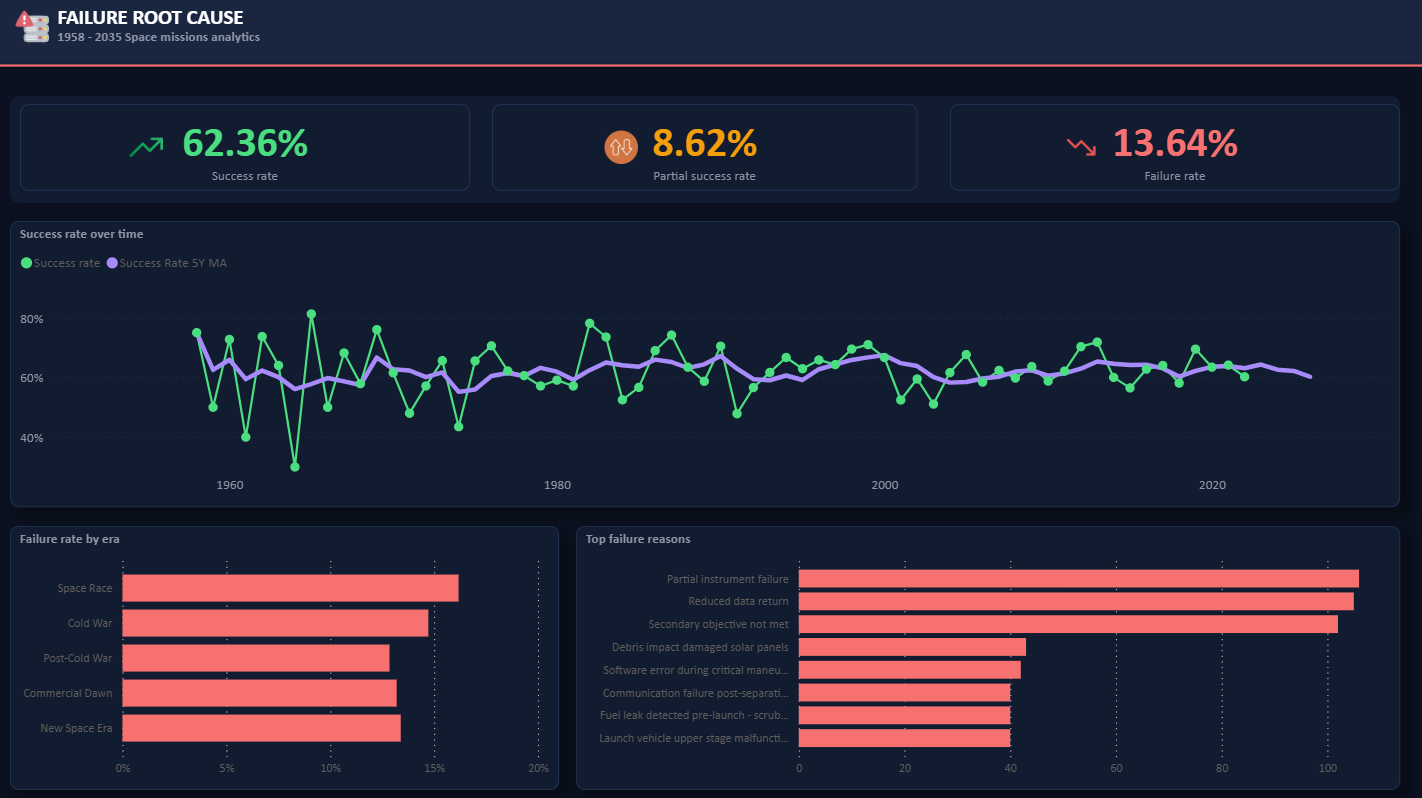

The page's visual inventory and layout, read from the dashboard file:
{"tool":"powerbi","page":{"name":"Failure root cause","canvas":[1280,720],"ordinal":2},"visuals":[{"type":"shape","box":[10,88,1248,96],"z":0},{"type":"card","fields":{"Values":["_measures.Success Rate2"]},"box":[19,95,404,78],"z":1000},{"type":"card","fields":{"Values":["_measures.failure rate"]},"box":[854,95,404,78],"z":2000},{"type":"card","fields":{"Values":["_measures.partial success rate"]},"box":[443,95,382,78],"z":3000},{"type":"clusteredBarChart","title":"Top failure reasons","fields":{"Category":["public vw_dashboard_facts.failure_reason"],"Y":["CountNonNull(public vw_dashboard_facts.mission_id)"]},"box":[518,474,740,237],"z":5000},{"type":"lineChart","title":"Success rate over time","fields":{"Category":["public vw_dashboard_facts.year"],"Y":["_measures.Success Rate2","_measures.Success Rate 5Y MA"]},"box":[10,200,1248,257],"z":6000},{"type":"clusteredBarChart","fields":{"Y":["_measures.failure rate"],"Category":["public vw_dashboard_facts.era"]},"box":[10,474,493,237],"z":7000},{"type":"shape","box":[0,0,1280,59.3],"z":8000},{"type":"shape","box":[0,7.8,1280,105],"z":9000},{"type":"textbox","box":[48,0,300,61],"z":10000},{"type":"image","box":[112,114,40,40],"z":11000},{"type":"image","box":[10,6,40,40],"z":12000},{"type":"image","box":[539,114,40,40],"z":13000},{"type":"image","box":[952,114,40,40],"z":14000}]}

Visuals, with their boxes in screenshot pixels (x1, y1, x2, y2), scaled from the page's 1280x720 canvas onto the 1422x798 screenshot:
shape: <box>11,98,1398,204</box>
card - _measures.Success Rate2: <box>21,105,470,192</box>
card - _measures.failure rate: <box>949,105,1398,192</box>
card - _measures.partial success rate: <box>492,105,917,192</box>
"Top failure reasons" clusteredBarChart: <box>575,525,1398,788</box>
"Success rate over time" lineChart: <box>11,222,1398,507</box>
clusteredBarChart - _measures.failure rate x public vw_dashboard_facts.era: <box>11,525,559,788</box>
shape: <box>0,0,1421,66</box>
shape: <box>0,9,1421,125</box>
textbox: <box>53,0,387,68</box>
image: <box>124,126,169,171</box>
image: <box>11,7,56,51</box>
image: <box>599,126,643,171</box>
image: <box>1058,126,1102,171</box>
